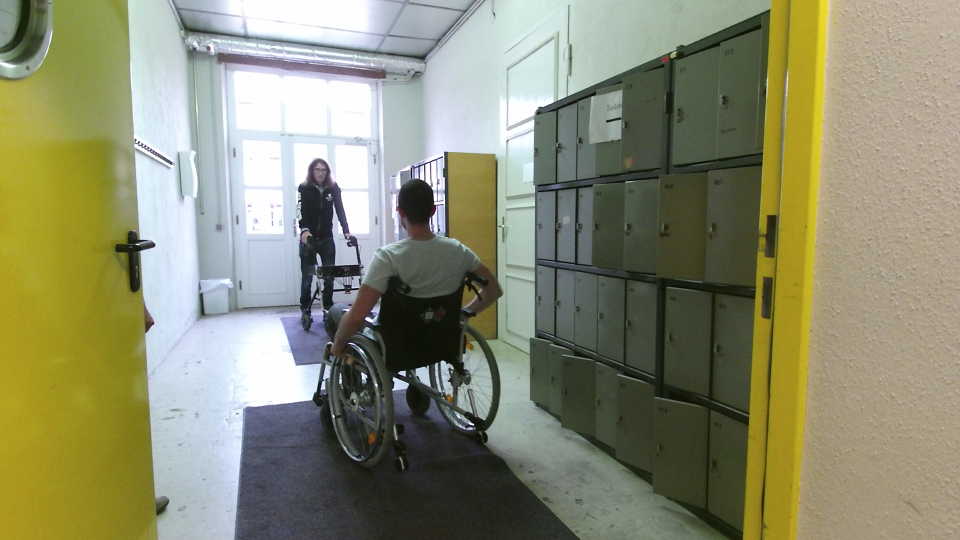wheelchair: (312, 170, 507, 477)
